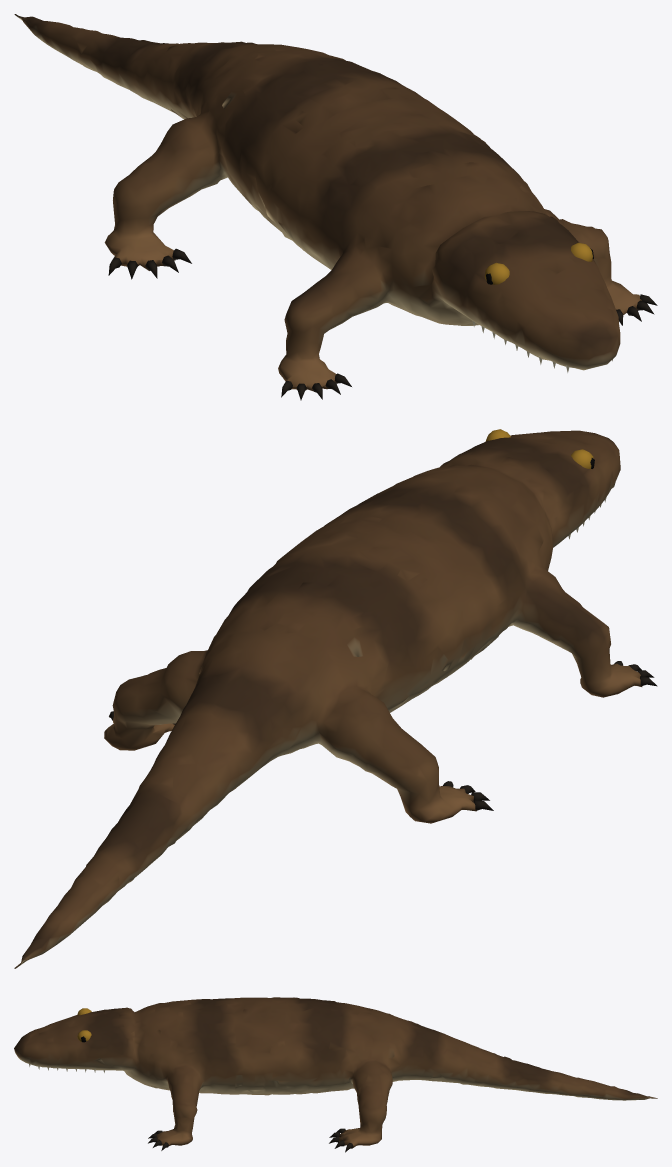
File: Seymouria.fbx
3 views of the same model, one above another, from view 1: azimuth 30°, elevation 25°; view 2: azimuth 150°, elevation 25°; view 3: azimuth 270°, elevation 25° (orthographic). The views are drawn at different scales.
Visible parts, largest first — view 1: Seymouria; view 2: Seymouria; view 3: Seymouria.
Part boxes in pixels (bbox=[...]): Seymouria: bbox=[14, 14, 657, 400]; Seymouria: bbox=[14, 429, 657, 968]; Seymouria: bbox=[14, 997, 657, 1152].
Bounding box in the file's own units: 0.6085 × 0.2702 × 1.61.
